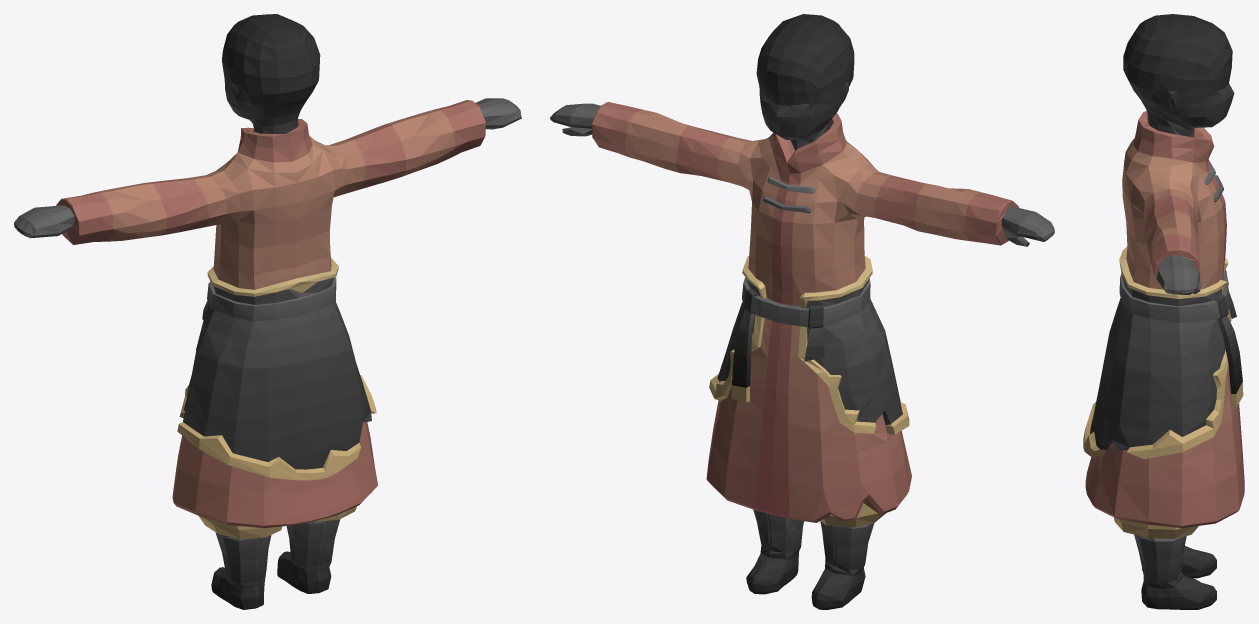
The model's file is CharSkyKid_Body_AP21Coat.glb.
The picture shows the model from 3 angles, left to right: view 1: azimuth 30°, elevation 25°; view 2: azimuth 150°, elevation 25°; view 3: azimuth 270°, elevation 25°; orthographic projection.
Parts seen in each view (by area): view 1: CharSkyKid_Body_AP21Coat; view 2: CharSkyKid_Body_AP21Coat; view 3: CharSkyKid_Body_AP21Coat.
Part boxes in pixels (<box>): CharSkyKid_Body_AP21Coat: <box>14,14,521,609</box>; CharSkyKid_Body_AP21Coat: <box>550,14,1054,609</box>; CharSkyKid_Body_AP21Coat: <box>1083,14,1244,609</box>.
Bounding box in the file's own units: 13.7 × 14.93 × 3.85.
1 material, 1 textured.
